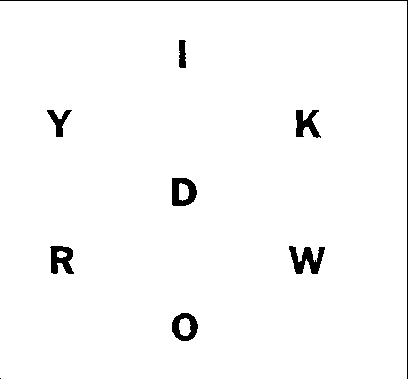I: (175, 30, 196, 76)
